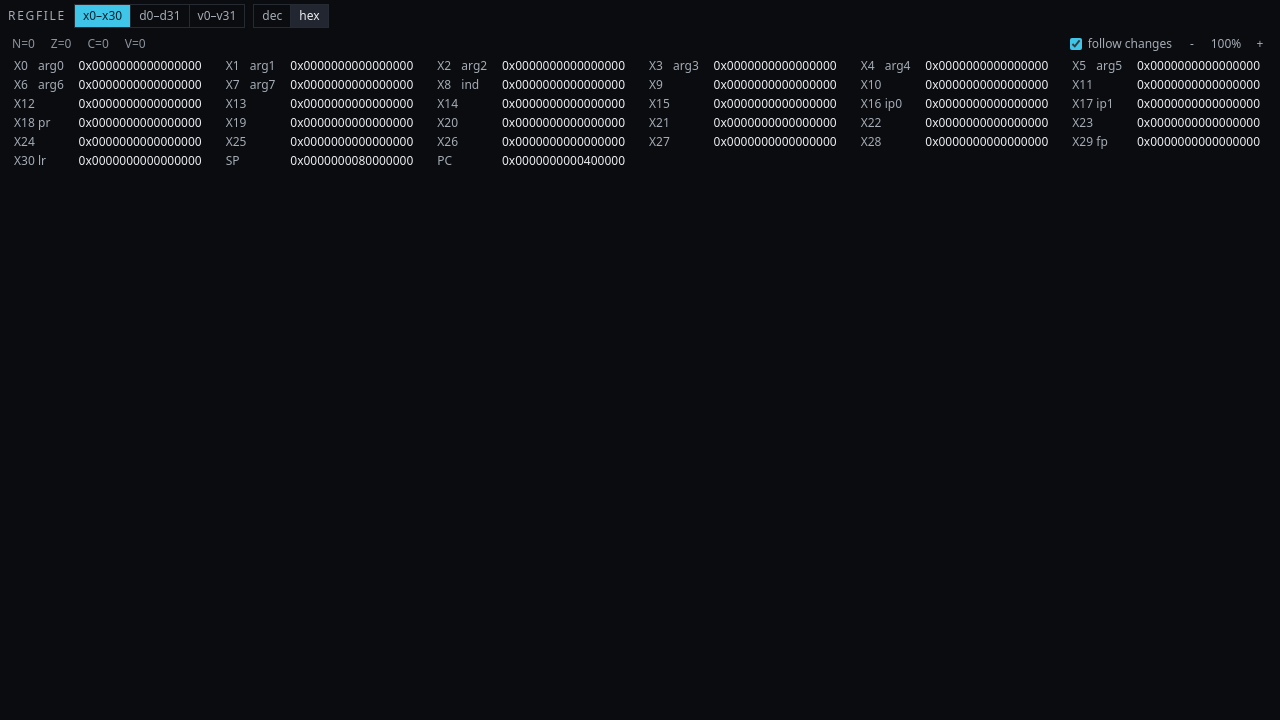
it: RegisterPanel v-register view › shows all 32 v registers, each under both of its names
Click the button "v0–v31". click: coordinates (216, 16)
box: 188,5 -> 244,27
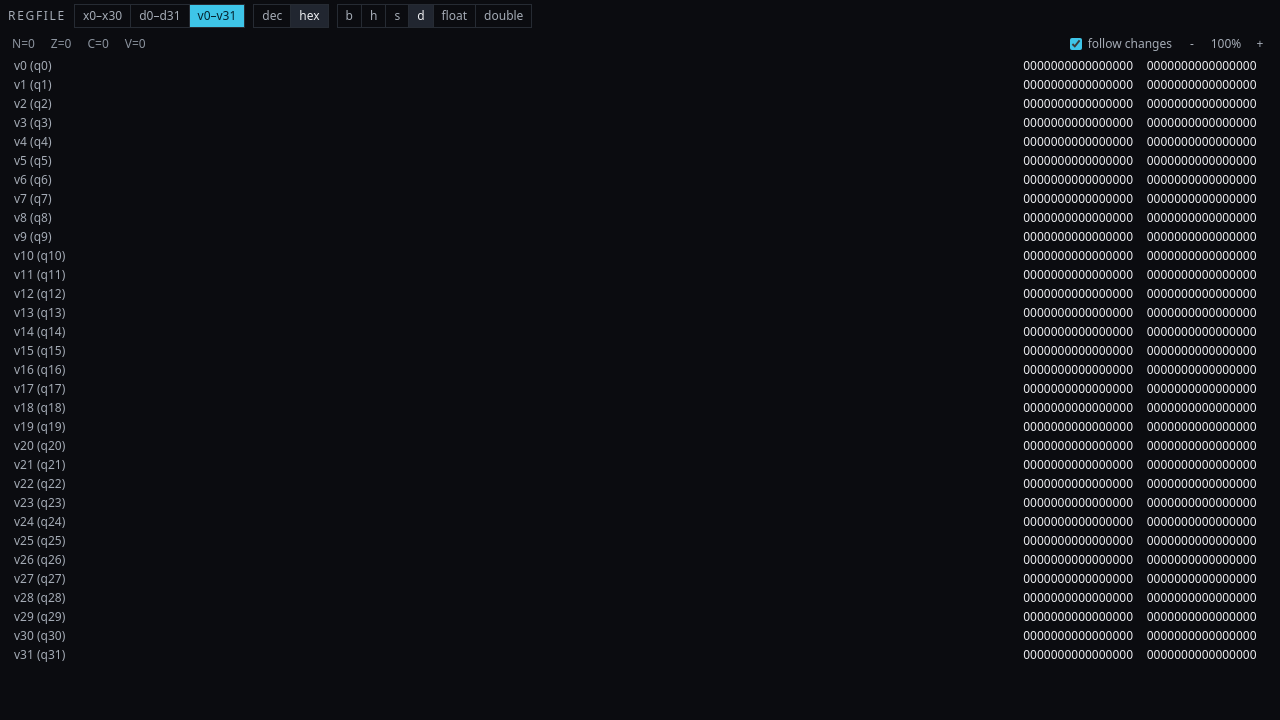
Result: the text "v0 (q0)" is shown at 14,57 -> 52,74
Result: the text "v31 (q31)" is shown at 14,646 -> 65,663
